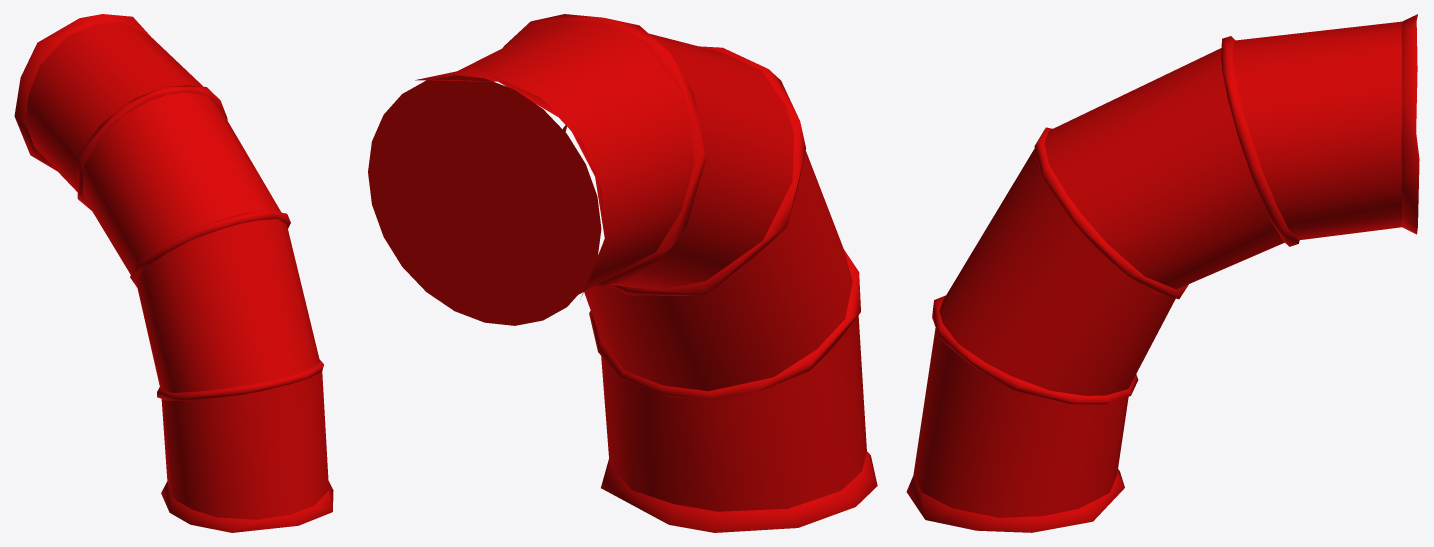
3 renders of one model, left to right at view 1: azimuth 30°, elevation 25°; view 2: azimuth 150°, elevation 25°; view 3: azimuth 270°, elevation 25°, orthographic. The views are drawn at different scales.
Visible parts, largest first — view 1: Mesh; view 2: Mesh; view 3: Mesh.
Boxes of the visible parts, bbox=[...] form: Mesh: bbox=[14, 14, 333, 532]; Mesh: bbox=[368, 14, 877, 532]; Mesh: bbox=[906, 14, 1419, 532].
Size of the model in its own units: 0.4364 by 1.01 by 1.01.
